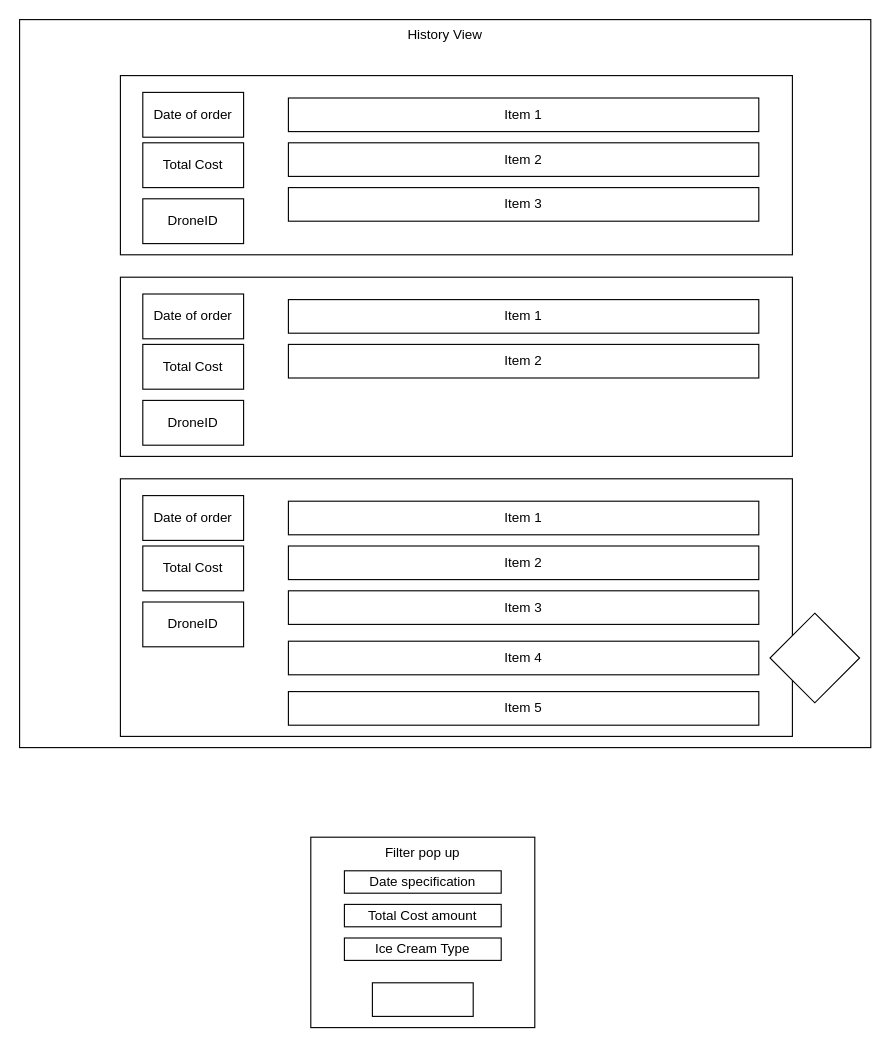
This 890x1047 diagram has some shape labels left out. The shapes that lost their labels are listed below. From the top down, each one's centre as x and y in pixels, then its label:
(814,657): Filter button
(422,999): Submit
